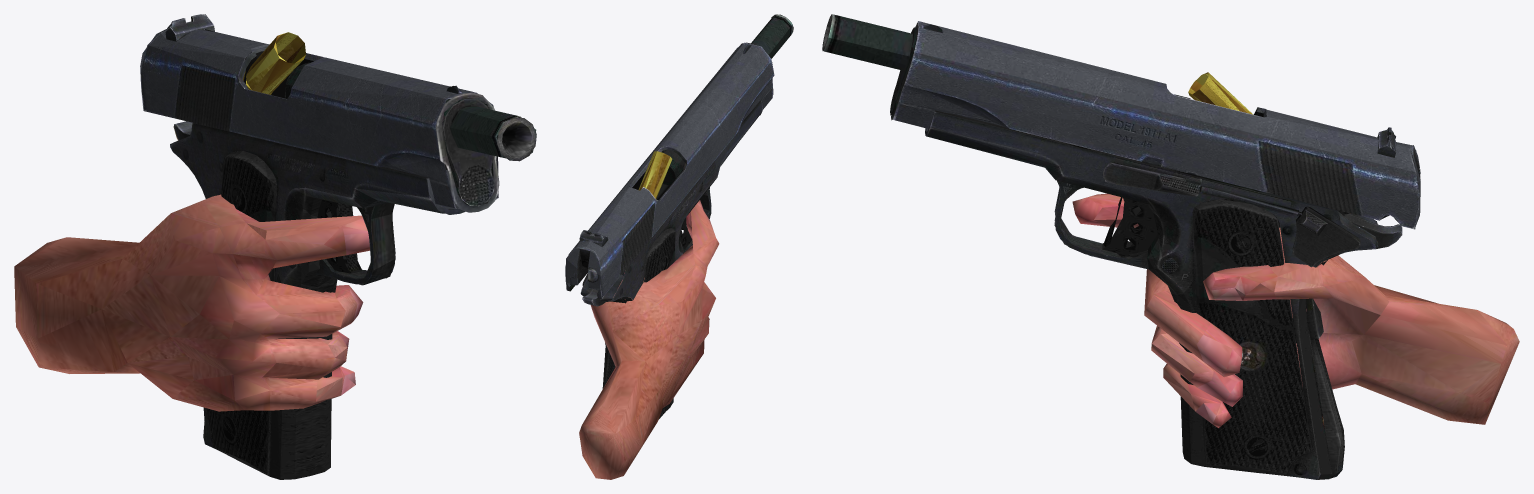
File: Gun_000007.obj
3 views of the same model, side by side, from view 1: azimuth 30°, elevation 25°; view 2: azimuth 150°, elevation 25°; view 3: azimuth 270°, elevation 25° (orthographic). The views are drawn at different scales.
Parts seen in each view (by area): view 1: ZBrushPolyMesh3D, Slide, Mesh_0008, BulletShell, Trigger; view 2: ZBrushPolyMesh3D, Slide, Mesh_0008, BulletShell; view 3: Mesh_0008, Slide, ZBrushPolyMesh3D, Trigger, BulletShell.
Part boxes in pixels (x1=…): ZBrushPolyMesh3D: x1=14, y1=194, x2=369, y2=411; Slide: x1=140, y1=14, x2=499, y2=212; Mesh_0008: x1=170, y1=62, x2=536, y2=479; BulletShell: x1=243, y1=32, x2=305, y2=94; Trigger: x1=317, y1=193, x2=361, y2=273; ZBrushPolyMesh3D: x1=579, y1=200, x2=719, y2=479; Slide: x1=565, y1=42, x2=774, y2=298; Mesh_0008: x1=580, y1=14, x2=793, y2=419; BulletShell: x1=638, y1=151, x2=672, y2=198; Mesh_0008: x1=822, y1=14, x2=1402, y2=479; Slide: x1=890, y1=21, x2=1420, y2=229; ZBrushPolyMesh3D: x1=1072, y1=193, x2=1519, y2=427; Trigger: x1=1102, y1=197, x2=1157, y2=257; BulletShell: x1=1188, y1=72, x2=1252, y2=114.
Size of the model in its own units: 0.8847 by 2.28 by 3.15.
